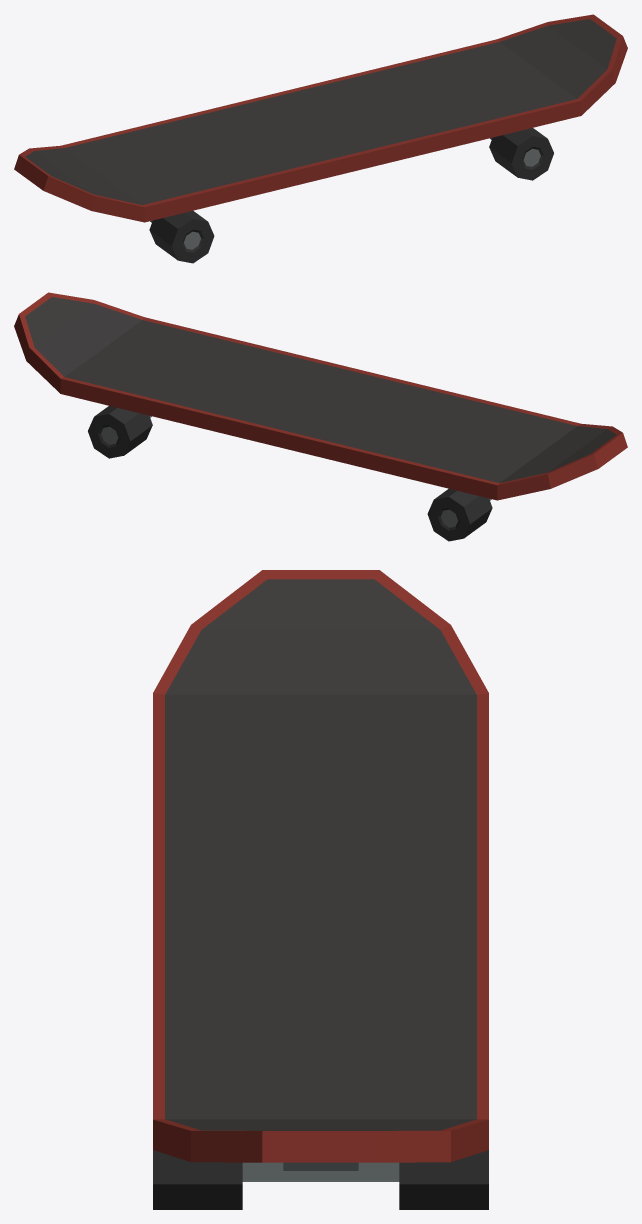
Rendered from SM_Vehicle_Land_Skateboard.fbx.
3 renders of one model, top to bottom at view 1: azimuth 30°, elevation 25°; view 2: azimuth 150°, elevation 25°; view 3: azimuth 270°, elevation 25°, orthographic. The views are drawn at different scales.
Visible parts, largest first — view 1: SM_Vehicle_Land_Skateboard; view 2: SM_Vehicle_Land_Skateboard; view 3: SM_Vehicle_Land_Skateboard.
Boxes of the visible parts, x1,y1,x2,y2 form: SM_Vehicle_Land_Skateboard: (14,14,627,263); SM_Vehicle_Land_Skateboard: (14,292,627,541); SM_Vehicle_Land_Skateboard: (153,570,488,1209).
Size of the model in its own units: 120 by 18.9 by 30.
